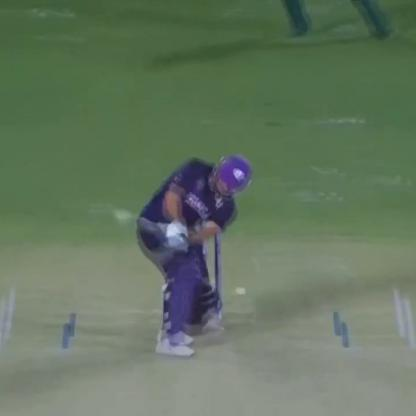ball: (230, 279, 248, 301)
bat: (107, 202, 200, 252)
pitch: (3, 295, 412, 414)
